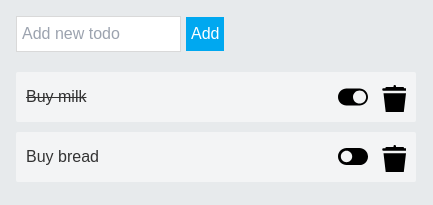
Test case: TodoApp › Todo App with initial data › edits a todo item by clicking away from the edit input
Click the text "Buy bread" at [62, 157], box [26, 145, 99, 169]
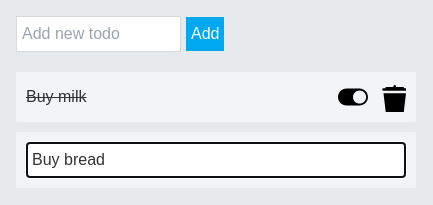
Replace the text in the field showing "Buy bread" with "Buy ramen" at [216, 160], box [26, 142, 406, 178]
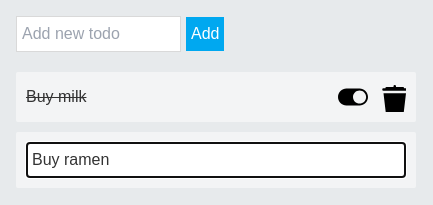
Leave the field showing "Buy bread", box [26, 142, 406, 178]
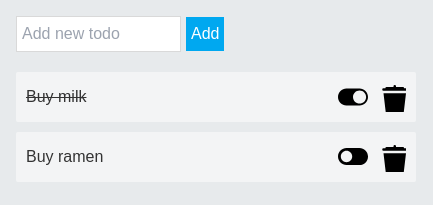
Result: the text "Buy ramen" is shown at [26, 145, 103, 169]
